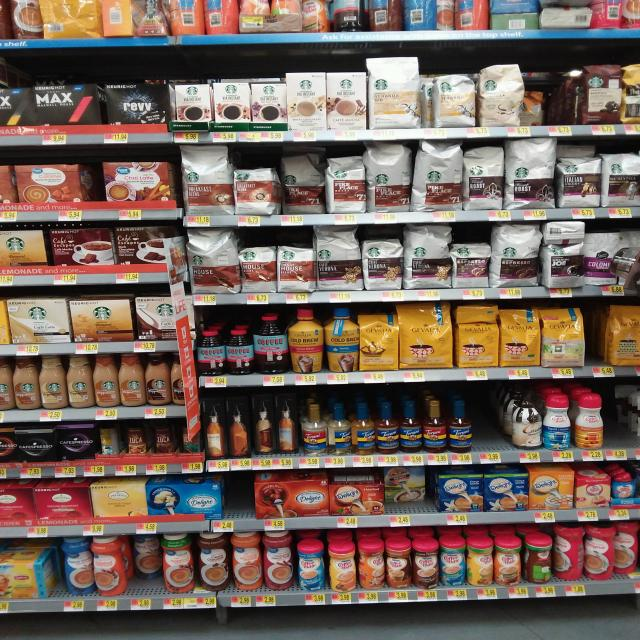100- O.O.S: (472, 392, 502, 464), (230, 475, 253, 530), (604, 396, 622, 460)
